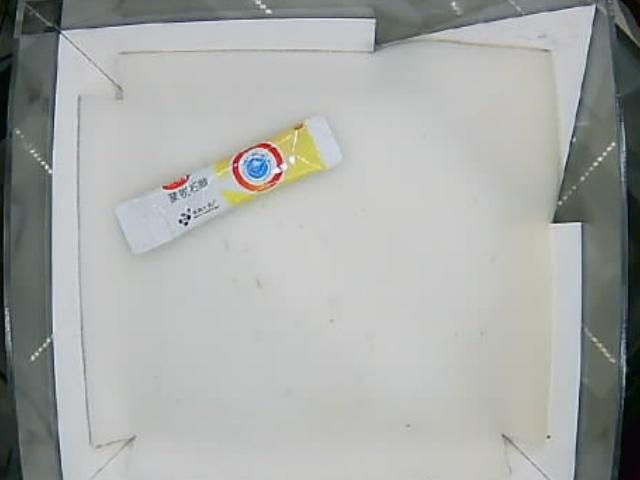Medicine: (116, 117, 342, 256)
